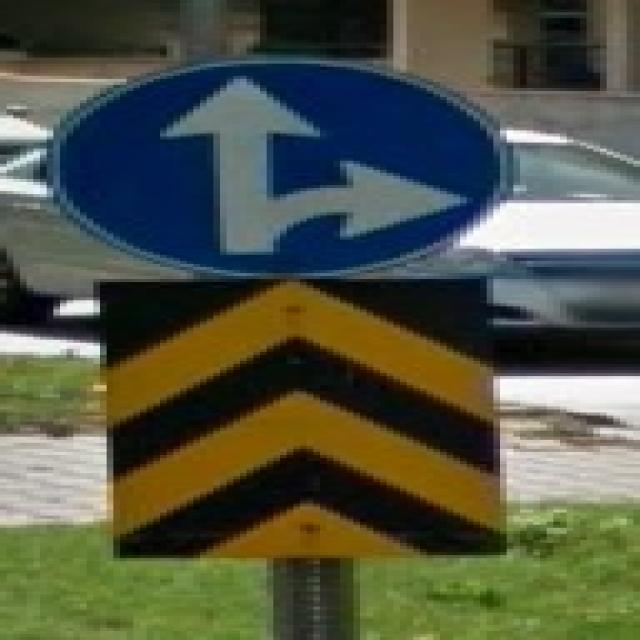Straight or Right: (61, 62, 501, 274)
